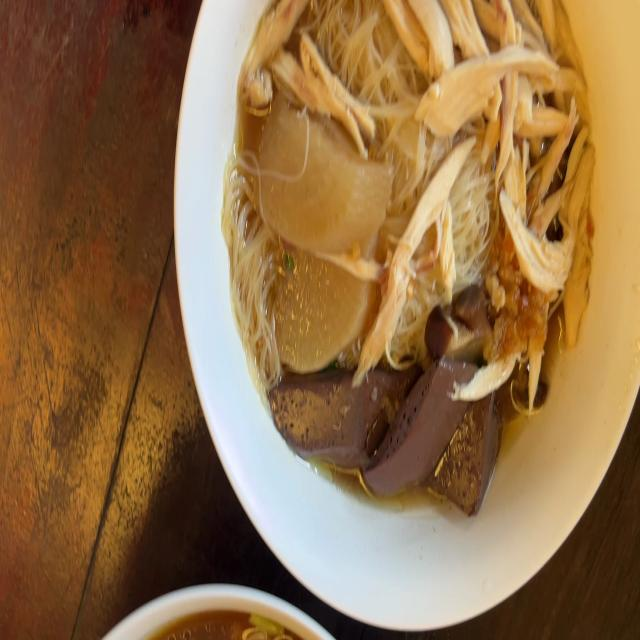noodle: (205, 0, 615, 538)
